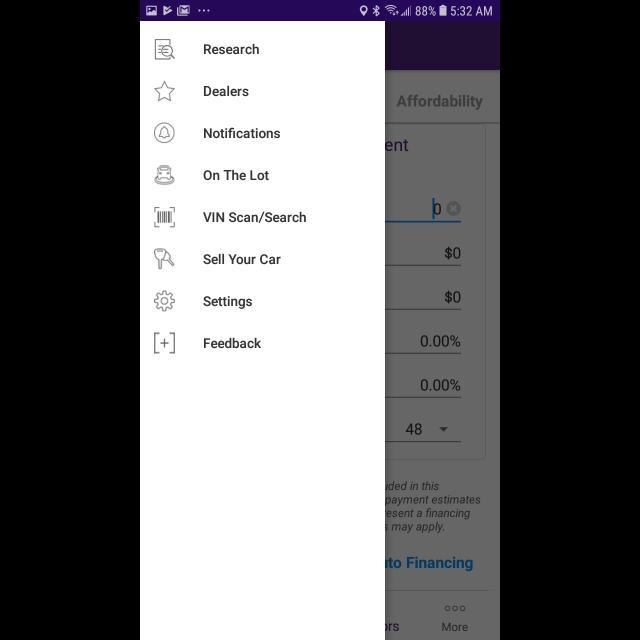icon: (154, 290, 176, 312), (154, 332, 176, 353), (153, 122, 174, 144), (154, 81, 176, 102), (155, 40, 175, 60)
image: (153, 248, 174, 270), (154, 208, 176, 228), (155, 165, 175, 185)
panel: (140, 22, 386, 640)
text: (204, 212, 306, 224), (203, 253, 281, 264), (204, 128, 280, 138), (204, 296, 252, 310), (203, 170, 269, 180), (204, 338, 262, 348), (204, 44, 260, 54), (204, 85, 248, 96)
uppertaskbar: (140, 1, 500, 22)
